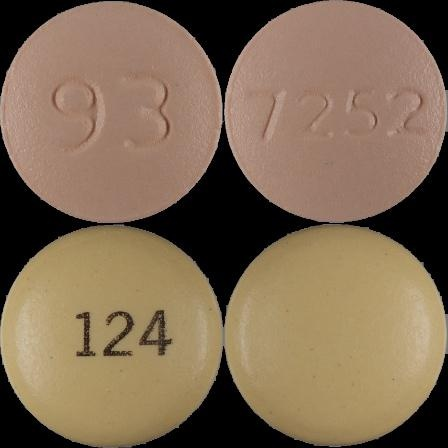42254-123: (0, 0, 224, 224)
